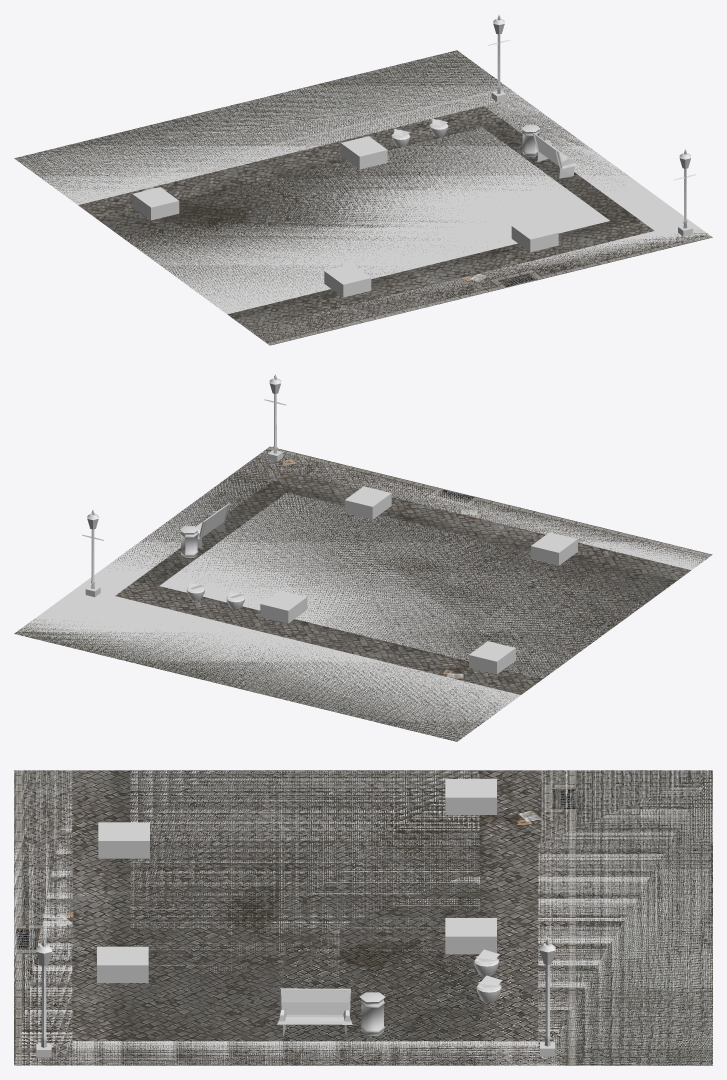
Rendered from worker_scraper_end_left_as_corner.gltf.
3 views of the same model, one above another, from view 1: azimuth 30°, elevation 25°; view 2: azimuth 150°, elevation 25°; view 3: azimuth 270°, elevation 25° (orthographic). The views are drawn at different scales.
Visible parts, largest first — view 1: ground, UnevenBlocker, FeedbackBlocker.001, FeedbackBlocker.002, FeedbackBlocker, fc_feedback_door_0, fc_feedback_door_1, fc_feedback_door_2, fc_feedback_door_3, prop_bench1; view 2: ground, UnevenBlocker, FeedbackBlocker.001, FeedbackBlocker, FeedbackBlocker.002, fc_feedback_door_0, fc_feedback_door_2, fc_feedback_door_1, fc_feedback_door_3, prop_bench1; view 3: ground, FeedbackBlocker.001, UnevenBlocker, FeedbackBlocker, FeedbackBlocker.002, prop_bench1, fc_feedback_door_1, fc_feedback_door_2, fc_feedback_door_3, fc_feedback_door_0, prop_trashcan1, prop_lightpost_2 (+3 smaller).
Boxes of the visible parts, x1,y1,x2,y2 form: ground: [14, 50, 712, 345]; UnevenBlocker: [127, 127, 609, 314]; FeedbackBlocker.001: [15, 51, 520, 204]; FeedbackBlocker.002: [484, 97, 691, 230]; FeedbackBlocker: [250, 222, 711, 344]; fc_feedback_door_0: [340, 136, 387, 169]; fc_feedback_door_1: [324, 264, 371, 297]; fc_feedback_door_2: [511, 219, 558, 252]; fc_feedback_door_3: [132, 187, 179, 220]; prop_bench1: [532, 132, 576, 178]; ground: [14, 446, 712, 741]; UnevenBlocker: [159, 492, 659, 679]; FeedbackBlocker.001: [16, 587, 520, 740]; FeedbackBlocker: [250, 448, 711, 570]; FeedbackBlocker.002: [78, 462, 282, 595]; fc_feedback_door_0: [260, 590, 307, 623]; fc_feedback_door_2: [344, 486, 391, 519]; fc_feedback_door_1: [531, 532, 577, 565]; fc_feedback_door_3: [469, 641, 515, 674]; prop_bench1: [196, 503, 230, 548]; ground: [14, 770, 712, 1065]; FeedbackBlocker.001: [538, 770, 712, 1065]; UnevenBlocker: [130, 770, 479, 1015]; FeedbackBlocker: [14, 770, 72, 1065]; FeedbackBlocker.002: [72, 1041, 538, 1065]; prop_bench1: [277, 988, 352, 1036]; fc_feedback_door_1: [98, 822, 149, 858]; fc_feedback_door_2: [97, 946, 148, 982]; fc_feedback_door_3: [445, 779, 496, 814]; fc_feedback_door_0: [445, 918, 496, 954]; prop_trashcan1: [360, 992, 385, 1035]; prop_lightpost_2: [539, 938, 555, 1046].
Size of what is drawn, in the model's own units: 3 by 0.6306 by 3.
1 material, 1 textured.
